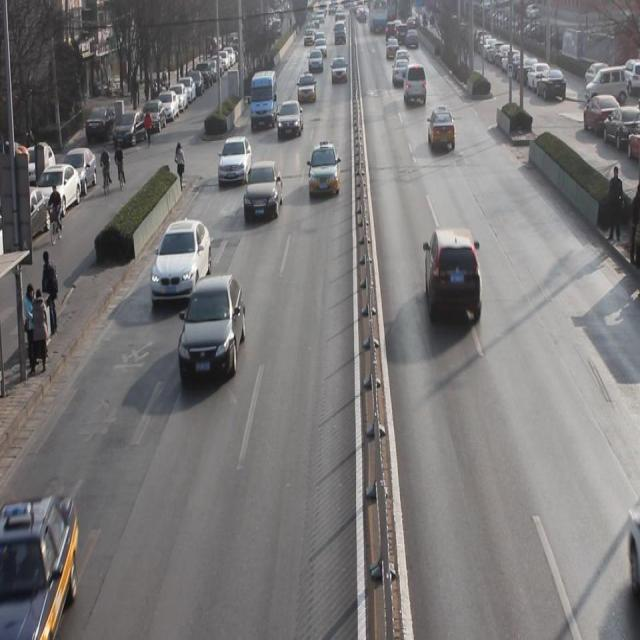car: (181, 278, 246, 386), (422, 227, 484, 328), (152, 224, 211, 302), (245, 166, 283, 225), (308, 146, 341, 204), (218, 136, 252, 188), (429, 106, 456, 152), (278, 103, 304, 145), (297, 72, 316, 107), (330, 58, 349, 87), (307, 49, 324, 77)
truck: (248, 69, 278, 135), (404, 66, 426, 108)
